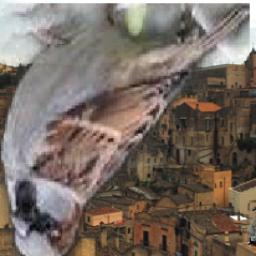Sparrow: (0, 4, 250, 256), (247, 206, 256, 246)
